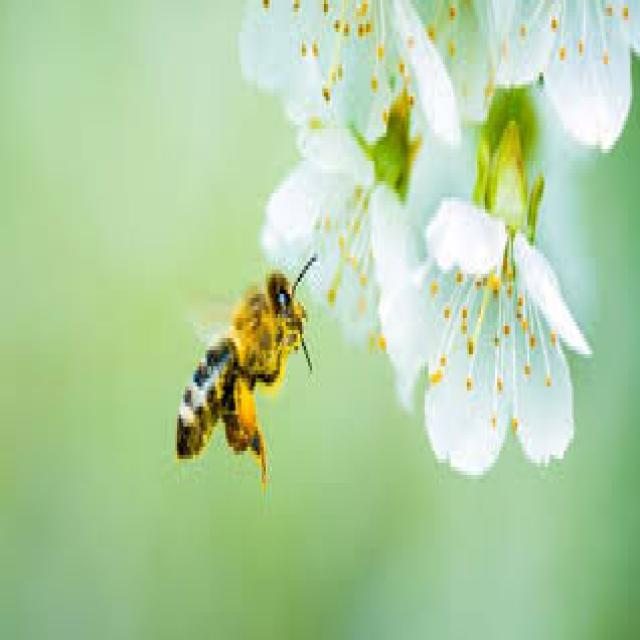Bees: (175, 252, 318, 496)
